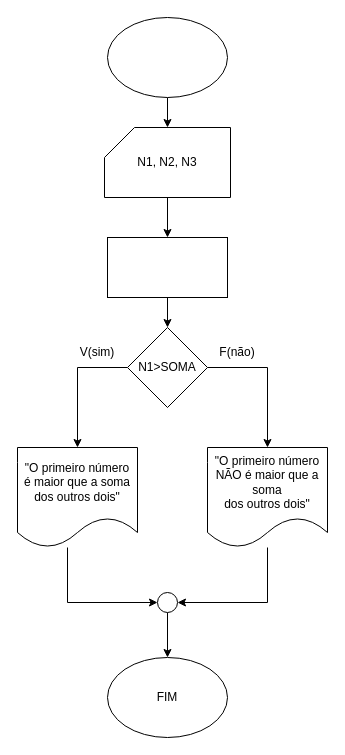
The diagram is 345 pixels wide and 755 high, and some of its shapes have lost their labels. The centre of each missing label's shape, as x and y in pixels:
INICIO: point (167, 57)
SOMA=N2+N3: point (167, 267)
